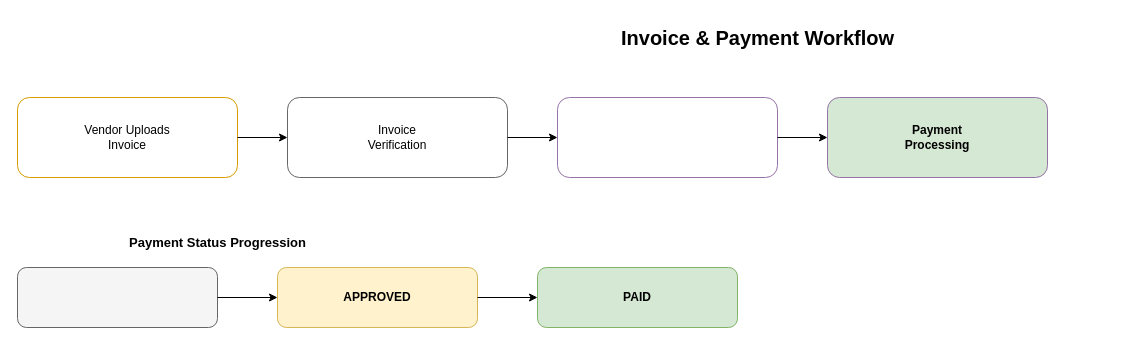
Some shapes in this 1125 by 345 pixel diagram are drawn without their labels. Here are the shapes that lost their labels. From the top down, the centre of each, then its label:
point (667, 137): Approval Workflow (Finance)
point (117, 297): PENDING
